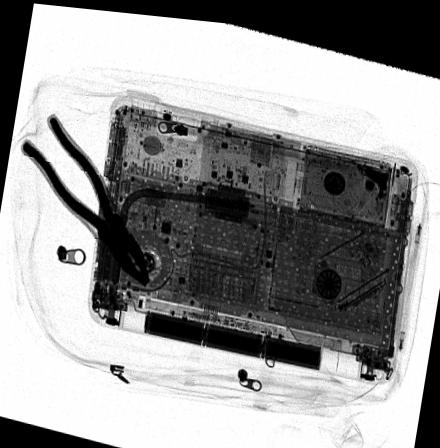Pliers: (21, 112, 152, 285)
